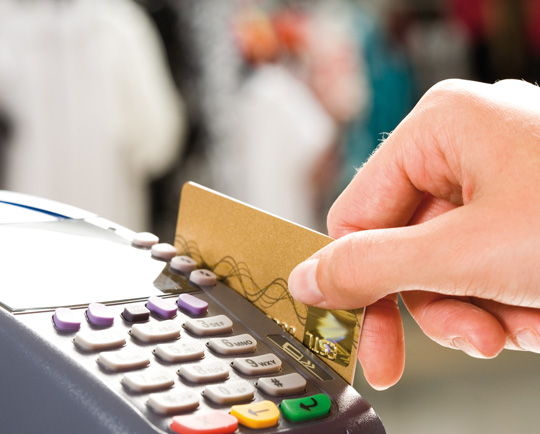tarjeta: (173, 179, 371, 390)
